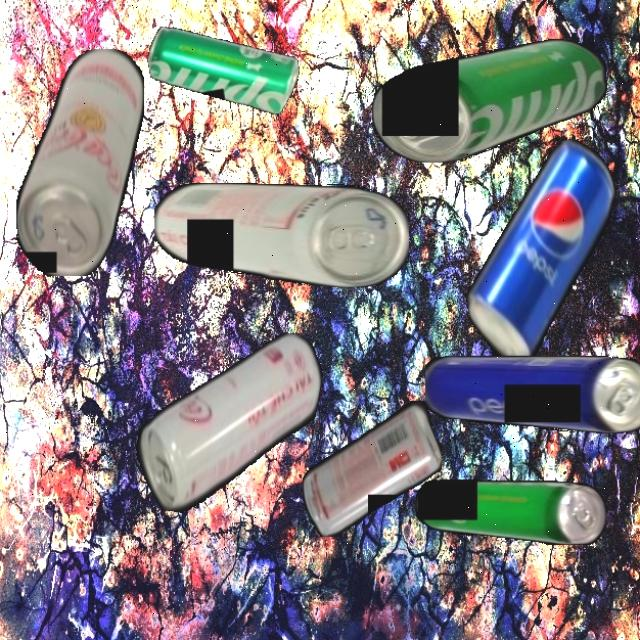debris: (442, 134, 640, 369), (127, 310, 328, 532), (15, 48, 144, 276), (372, 38, 608, 162), (153, 183, 409, 287), (143, 5, 306, 134), (302, 399, 442, 536), (424, 356, 640, 433), (415, 477, 606, 545)
